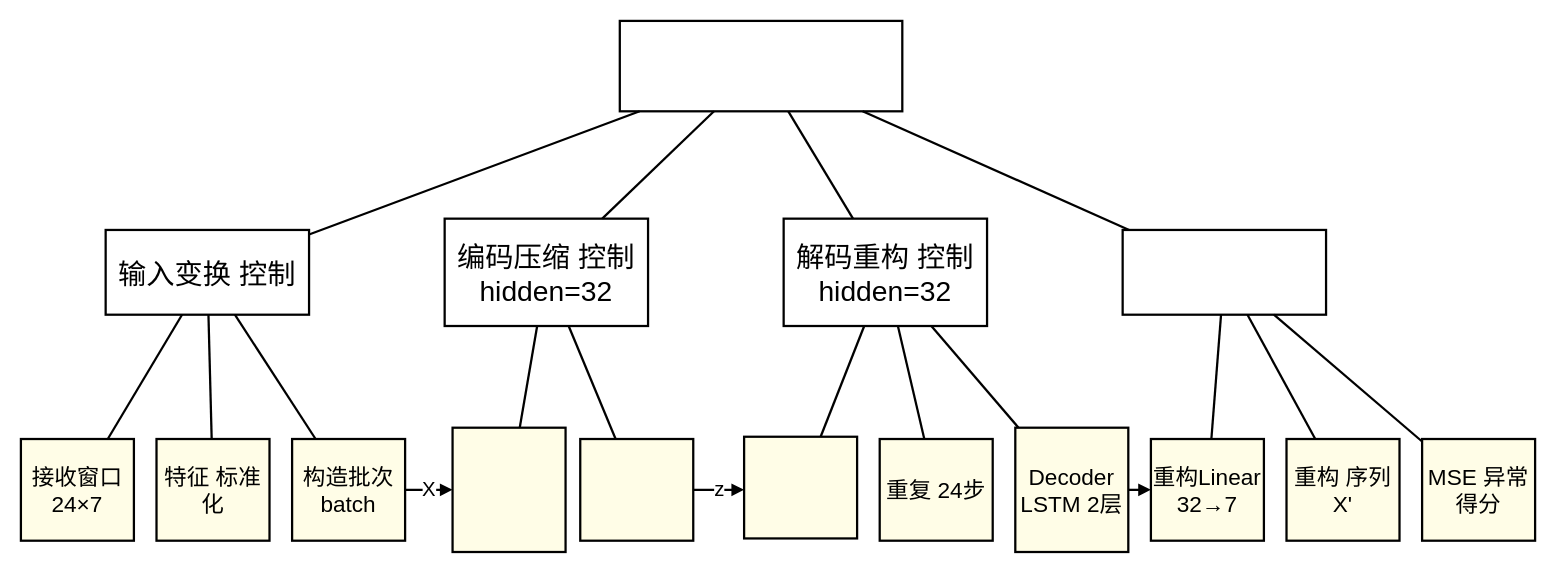
Some shapes in this 1555 by 572 pixel diagram are drawn without their labels. The centre of each missing label's shape, as x and y in pixels:
"Encoder LSTM 2层" belongs at (x=508, y=489).
"LSTM AutoEncoder 异常检测模型" belongs at (x=760, y=65).
"上下文 向量z" belongs at (x=800, y=487).
"误差评分 控制" belongs at (x=1224, y=271).
"隐藏状态 h[-1]" belongs at (x=636, y=489).
